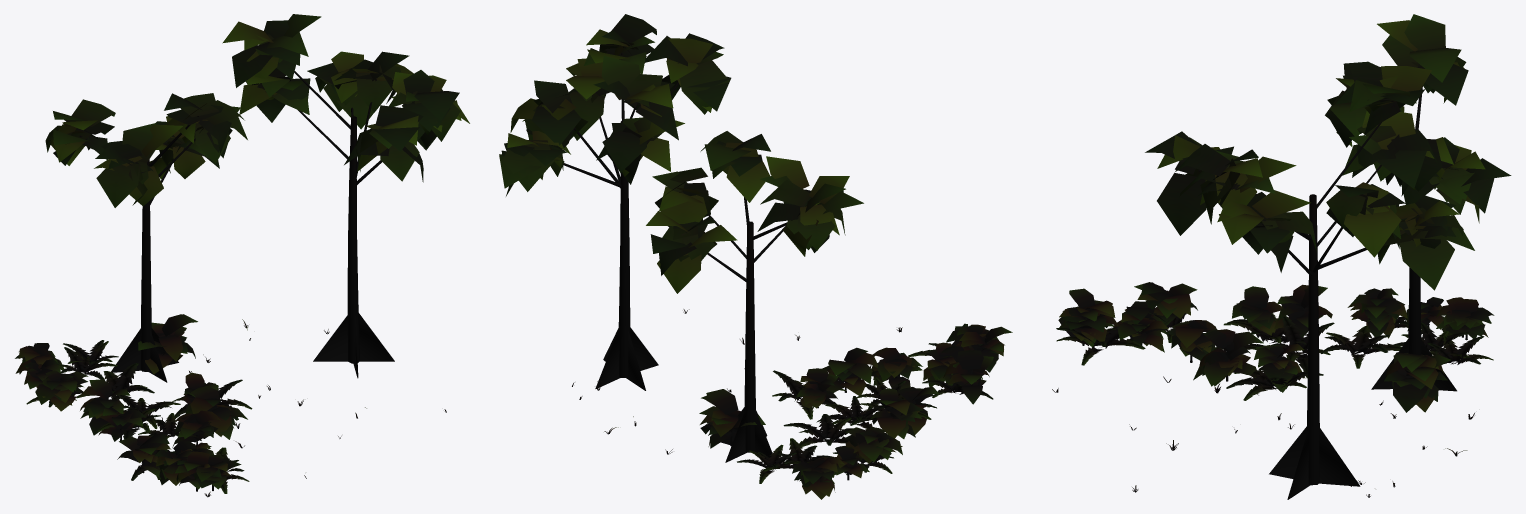
Rendered from patch_edge.glb.
3 renders of one model, left to right at view 1: azimuth 30°, elevation 25°; view 2: azimuth 150°, elevation 25°; view 3: azimuth 270°, elevation 25°, orthographic. The views are drawn at different scales.
Parts seen in each view (by area): view 1: patch_edge; view 2: patch_edge; view 3: patch_edge.
Part boxes in pixels (box(x1,y1,x2,y2)): patch_edge: box(15, 14, 469, 497); patch_edge: box(499, 14, 1012, 499); patch_edge: box(1052, 14, 1511, 499).
Bounding box in the file's own units: 14.01 × 11.89 × 12.92.
Materials: 1 (1 with a texture image).
